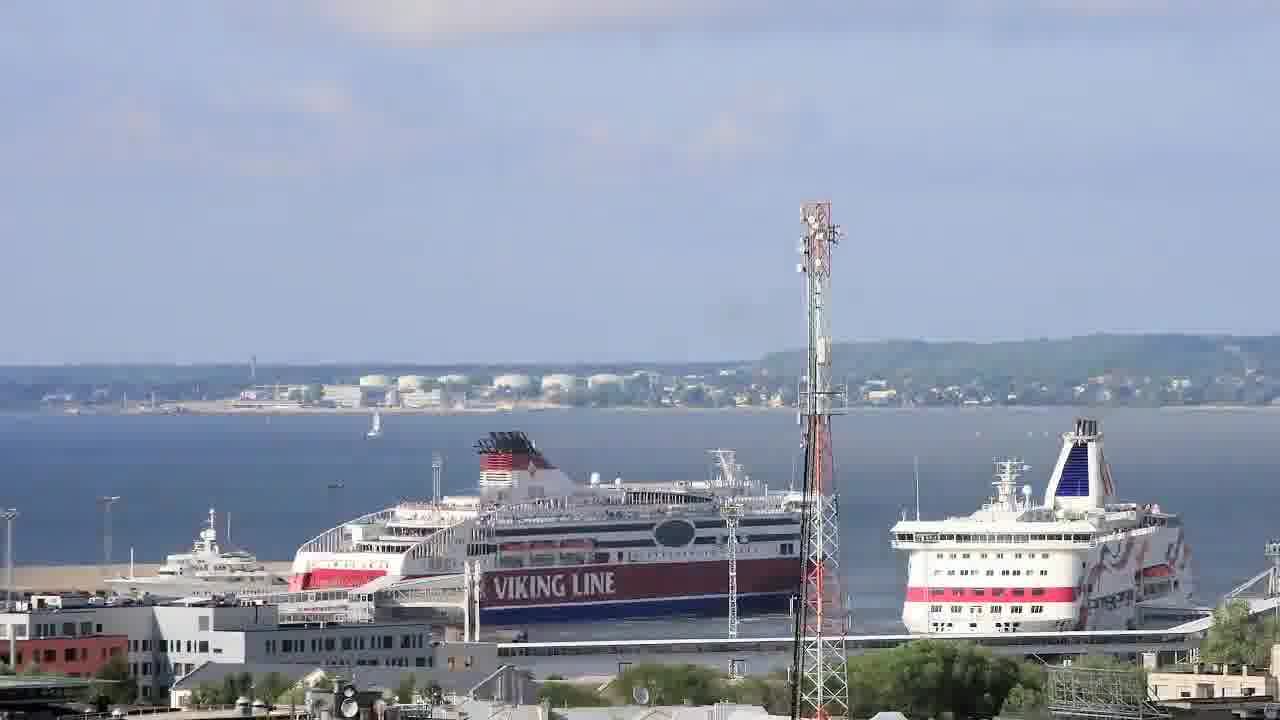type-2: (357, 400, 411, 451)
type-3: (288, 440, 836, 625), (868, 415, 1225, 638), (89, 519, 284, 613)
